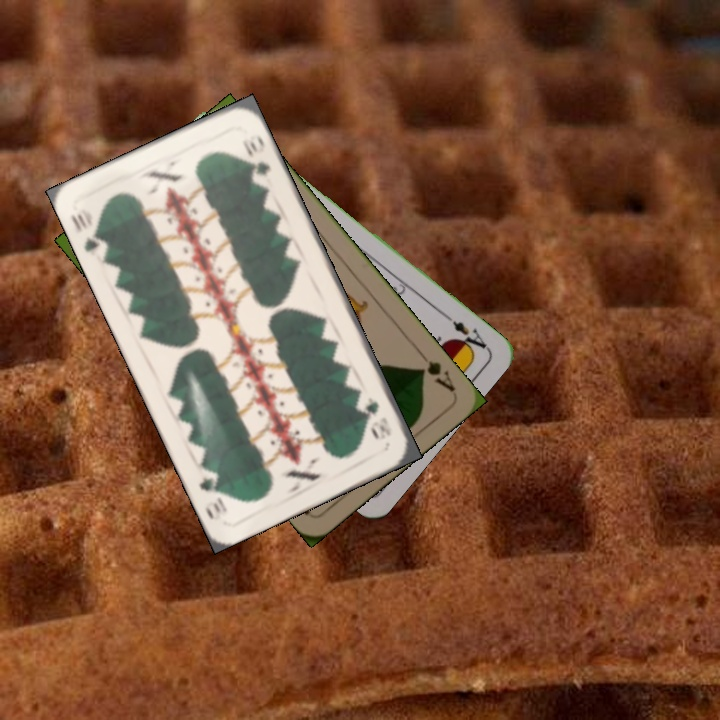EA: (441, 310, 491, 357)
G10: (66, 204, 110, 256), (361, 393, 394, 440)
GA: (414, 346, 458, 395)
